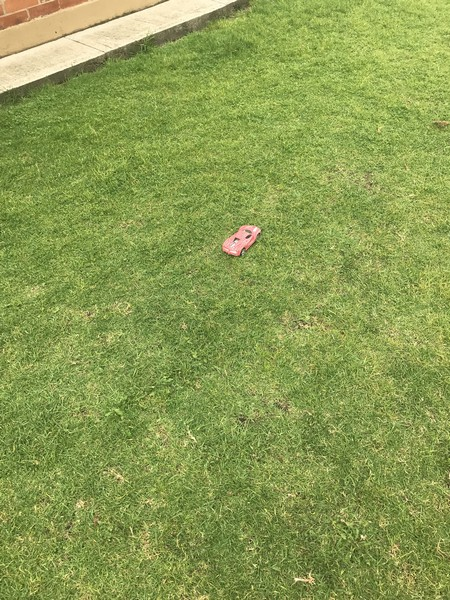RC: (220, 223, 262, 256)
